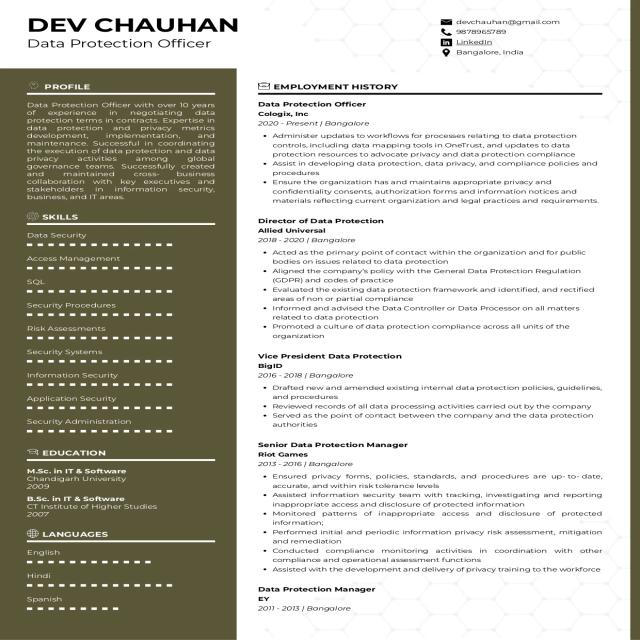contact: (415, 12, 586, 64)
education: (24, 445, 219, 523)
experience: (254, 74, 618, 616)
header: (21, 13, 248, 52)
languages: (22, 528, 223, 623)
skills: (22, 211, 218, 441)
summary: (20, 97, 219, 211)
